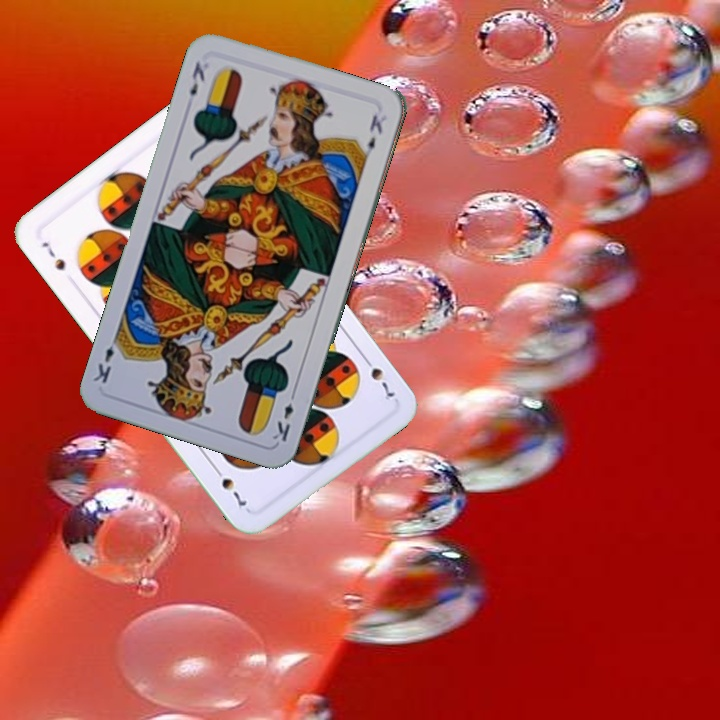EK: (268, 386, 299, 445), (185, 58, 208, 99)
S7: (358, 351, 398, 404), (38, 237, 68, 274)
